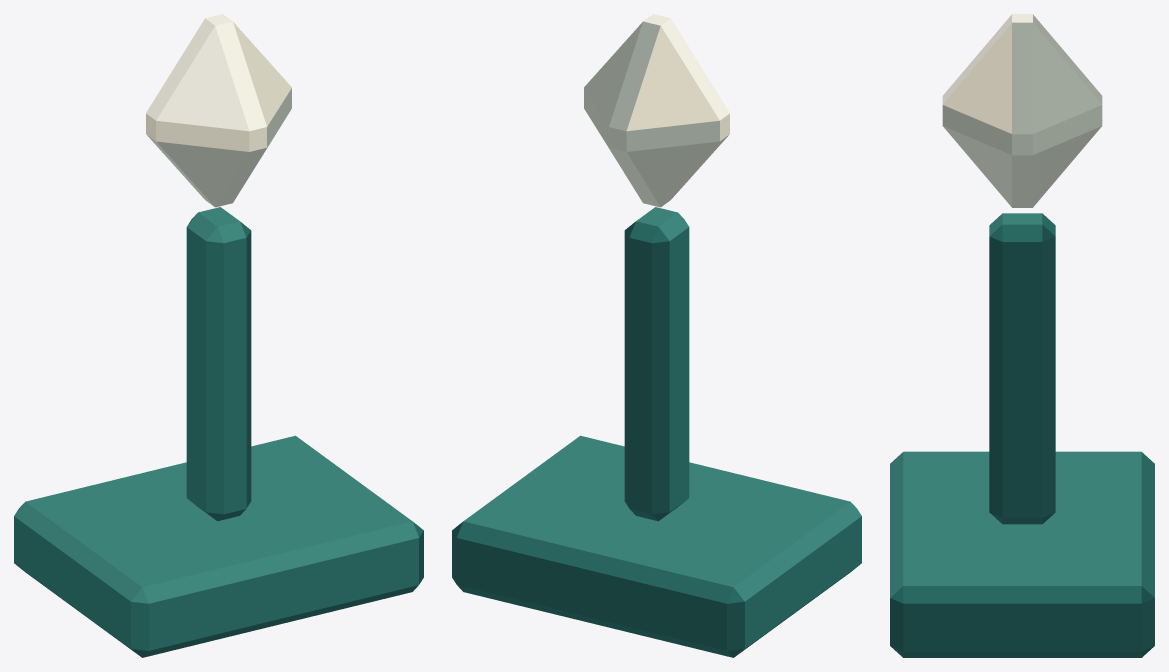
The model's file is Checkpoint_Idle.gltf.
3 views of the same model, side by side, from view 1: azimuth 30°, elevation 25°; view 2: azimuth 150°, elevation 25°; view 3: azimuth 270°, elevation 25° (orthographic).
Parts seen in each view (by area): view 1: Checkpoint_Idle_baked; view 2: Checkpoint_Idle_baked; view 3: Checkpoint_Idle_baked.
Boxes of the visible parts, x1,y1,x2,y2 form: Checkpoint_Idle_baked: [14, 14, 423, 657]; Checkpoint_Idle_baked: [452, 14, 861, 657]; Checkpoint_Idle_baked: [890, 14, 1154, 657].
Size of the model in its own units: 0.52 by 0.9542 by 0.4.
